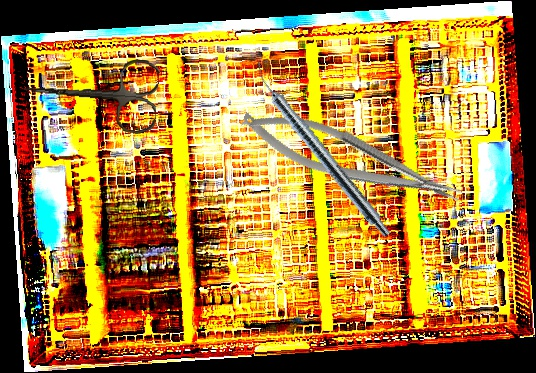Handpiece: (245, 60, 397, 241)
Iris Scissors: (20, 49, 161, 137)
Needle Holder: (235, 93, 467, 226)
